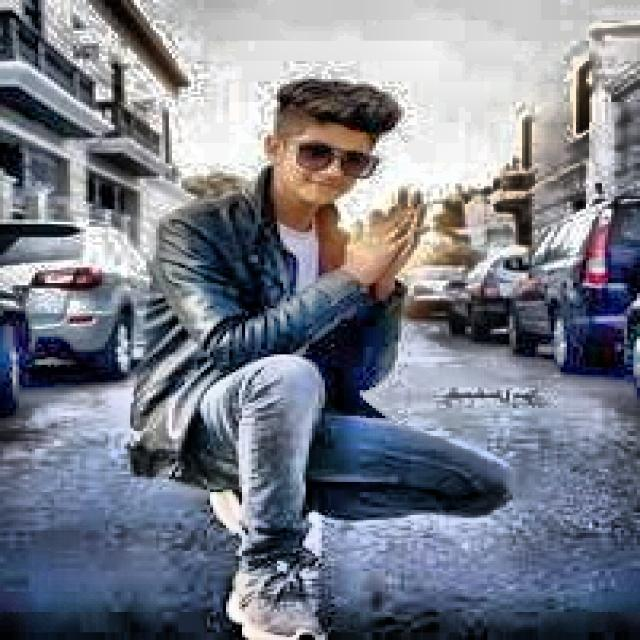Human: (138, 51, 496, 640)
